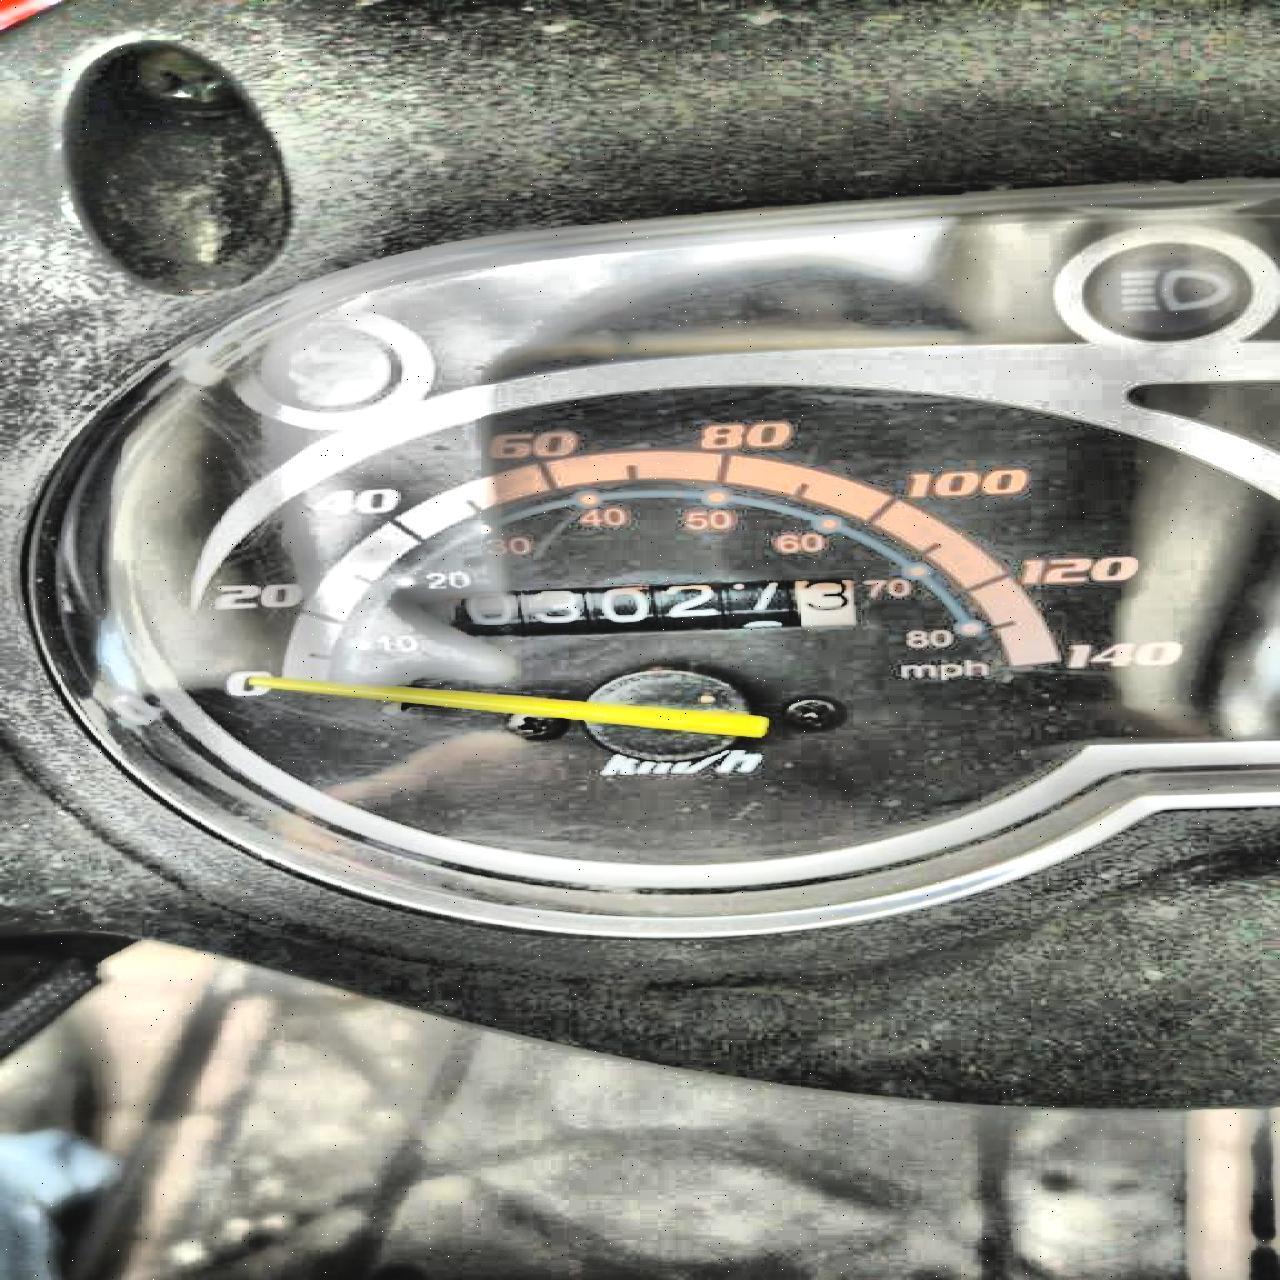0: (593, 586, 651, 622), (461, 590, 516, 626), (444, 574, 474, 590)
2: (660, 584, 720, 618), (434, 573, 444, 588)
3: (526, 588, 583, 624), (798, 579, 851, 613)
7: (729, 580, 779, 611)
odometer: (434, 574, 859, 640)
